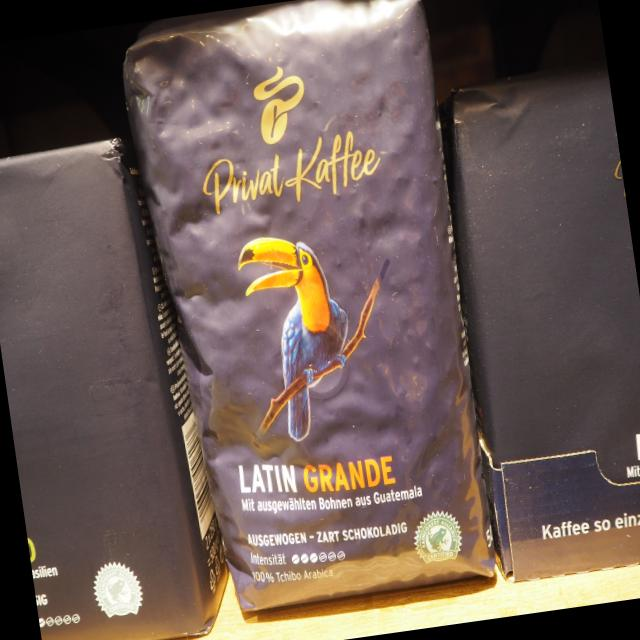LG Bohne: (107, 0, 501, 621)
